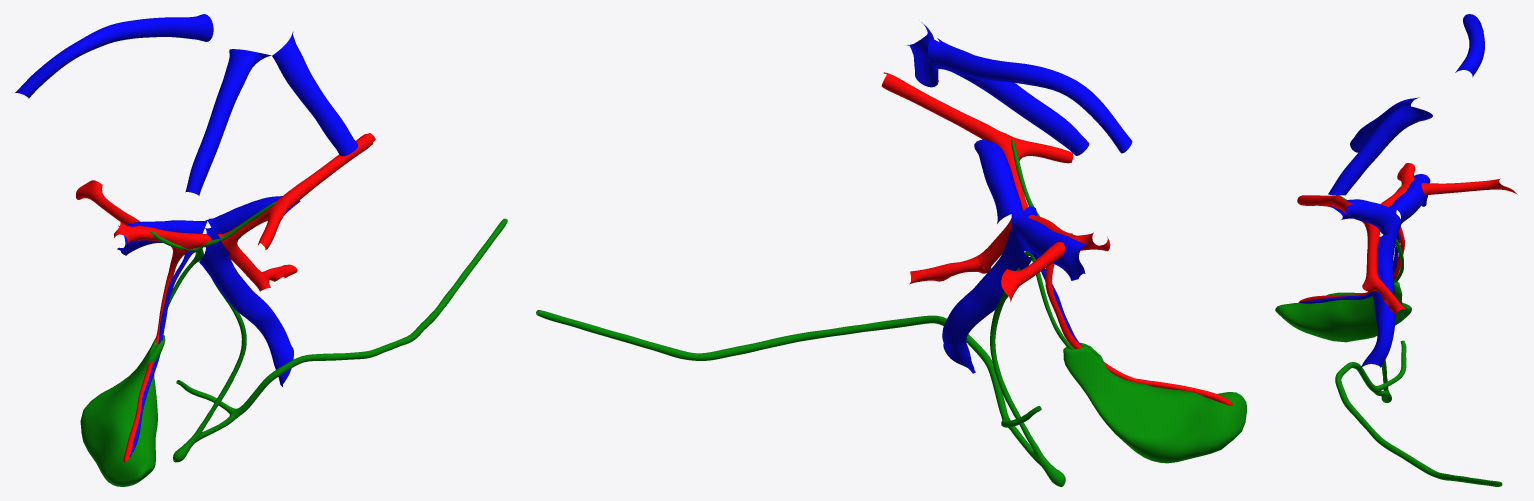
The model's file is 3d-vh-f-liver-landmark.glb.
3 renders of one model, left to right at view 1: azimuth 30°, elevation 25°; view 2: azimuth 150°, elevation 25°; view 3: azimuth 270°, elevation 25°, orthographic. The views are drawn at different scales.
Visible parts, largest first — view 1: VH_F_liver_landmark_veins_of_liver, VH_F_liver_landmark_gallbladder, VH_F_liver_landmark_arteries_of_liver, VH_F_liver_landmark_biliary_tree, VH_F_liver_landmark_cystic_artery, VH_F_liver_landmark_cystic_vein; view 2: VH_F_liver_landmark_veins_of_liver, VH_F_liver_landmark_gallbladder, VH_F_liver_landmark_biliary_tree, VH_F_liver_landmark_arteries_of_liver, VH_F_liver_landmark_cystic_artery; view 3: VH_F_liver_landmark_veins_of_liver, VH_F_liver_landmark_gallbladder, VH_F_liver_landmark_arteries_of_liver, VH_F_liver_landmark_biliary_tree, VH_F_liver_landmark_cystic_artery, VH_F_liver_landmark_cystic_vein.
Part boxes in pixels (box(x1,y1,x2,y2)): VH_F_liver_landmark_veins_of_liver: box(15, 14, 357, 386); VH_F_liver_landmark_gallbladder: box(80, 335, 165, 486); VH_F_liver_landmark_arteries_of_liver: box(76, 133, 375, 291); VH_F_liver_landmark_biliary_tree: box(150, 202, 507, 462); VH_F_liver_landmark_cystic_artery: box(123, 251, 183, 462); VH_F_liver_landmark_cystic_vein: box(129, 251, 193, 456); VH_F_liver_landmark_veins_of_liver: box(907, 22, 1132, 373); VH_F_liver_landmark_gallbladder: box(1063, 342, 1246, 463); VH_F_liver_landmark_biliary_tree: box(536, 140, 1073, 486); VH_F_liver_landmark_arteries_of_liver: box(881, 72, 1110, 302); VH_F_liver_landmark_cystic_artery: box(1045, 263, 1232, 405); VH_F_liver_landmark_veins_of_liver: box(1328, 14, 1484, 368); VH_F_liver_landmark_gallbladder: box(1275, 281, 1411, 342); VH_F_liver_landmark_arteries_of_liver: box(1297, 163, 1517, 314); VH_F_liver_landmark_biliary_tree: box(1335, 185, 1502, 486); VH_F_liver_landmark_cystic_artery: box(1298, 226, 1404, 302); VH_F_liver_landmark_cystic_vein: box(1300, 233, 1399, 303).
Bounding box in the file's own units: 0.2013 × 0.1546 × 0.0929.
